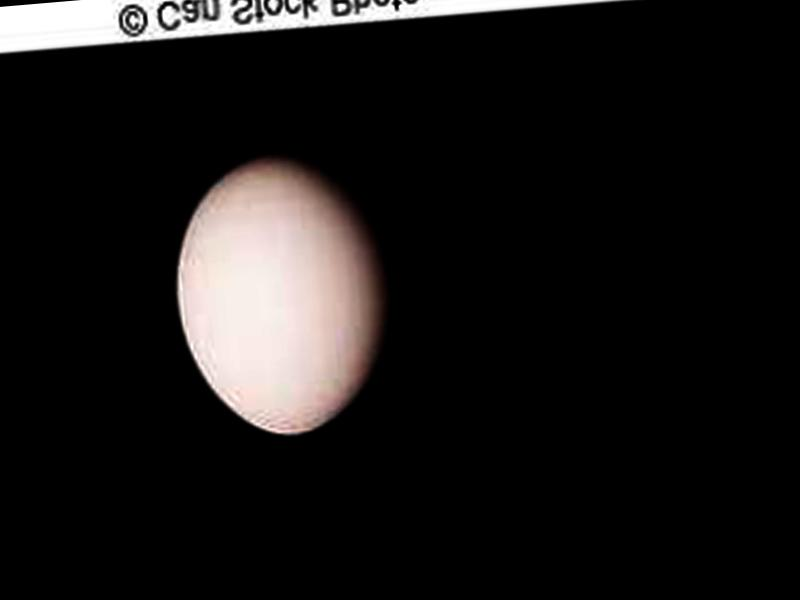Eggs: (165, 141, 397, 444)
